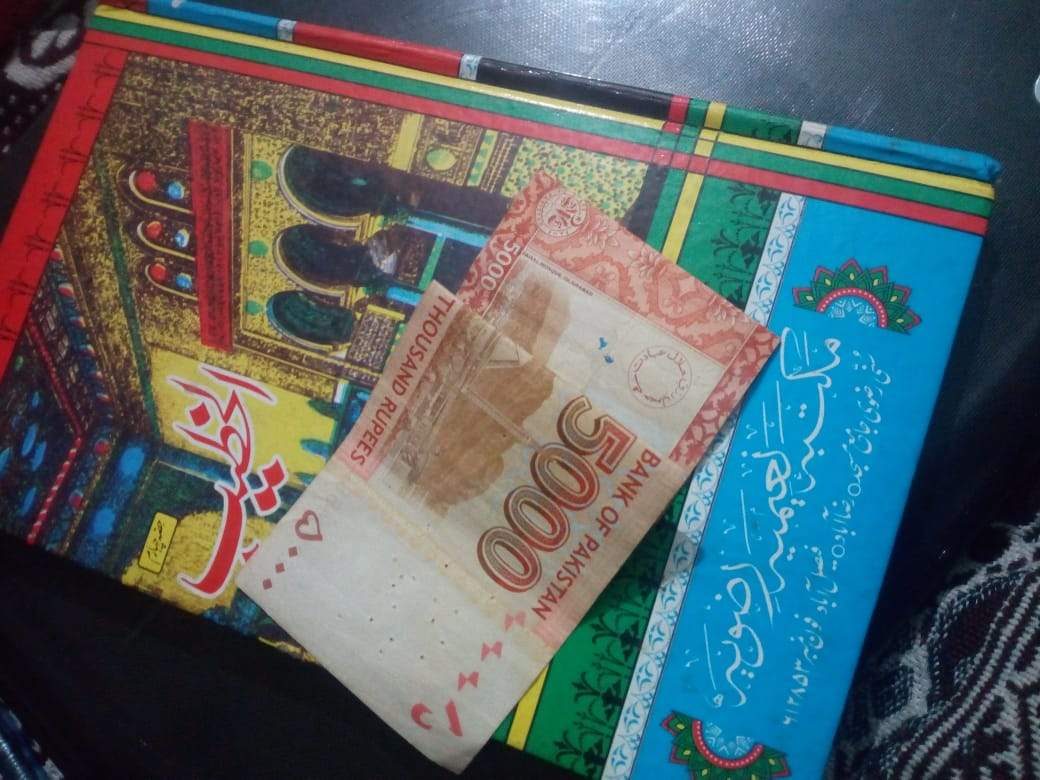5000 rupee: (235, 199, 781, 755)
